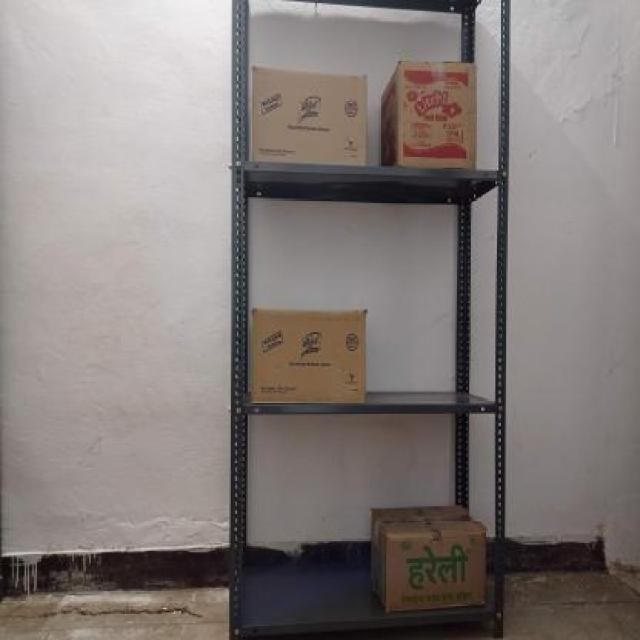box: (252, 64, 366, 168), (251, 309, 366, 406), (398, 57, 480, 171), (385, 535, 487, 605)
